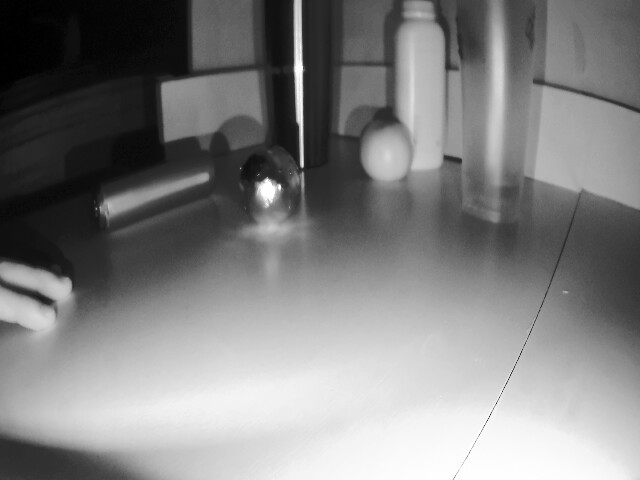silver: (236, 146, 304, 228)
